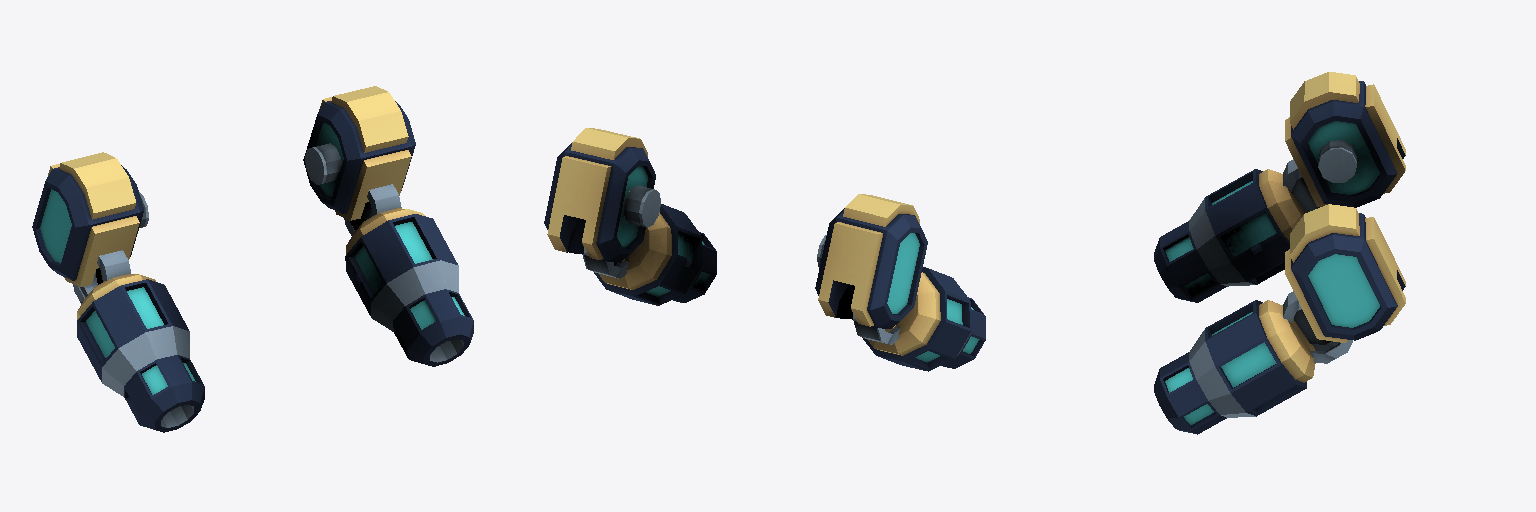
3 renders of one model, left to right at view 1: azimuth 30°, elevation 25°; view 2: azimuth 150°, elevation 25°; view 3: azimuth 270°, elevation 25°, orthographic.
Parts seen in each view (by area): view 1: Object030, Object031, Object029, Object028; view 2: Object028, Object029, Object030, Object031; view 3: Object031, Object030, Object028, Object029.
Boxes of the visible parts, x1,y1,x2,y2 form: Object030: [73, 250, 204, 432]; Object031: [344, 184, 473, 366]; Object029: [32, 152, 148, 286]; Object028: [303, 86, 415, 220]; Object028: [544, 128, 660, 262]; Object029: [815, 194, 927, 328]; Object030: [853, 267, 985, 371]; Object031: [582, 204, 716, 305]; Object031: [1154, 291, 1352, 434]; Object030: [1154, 159, 1319, 302]; Object028: [1285, 204, 1405, 342]; Object029: [1285, 72, 1405, 207].
Size of the model in its own units: 338 by 195 by 206.
1 materials, 1 textured.